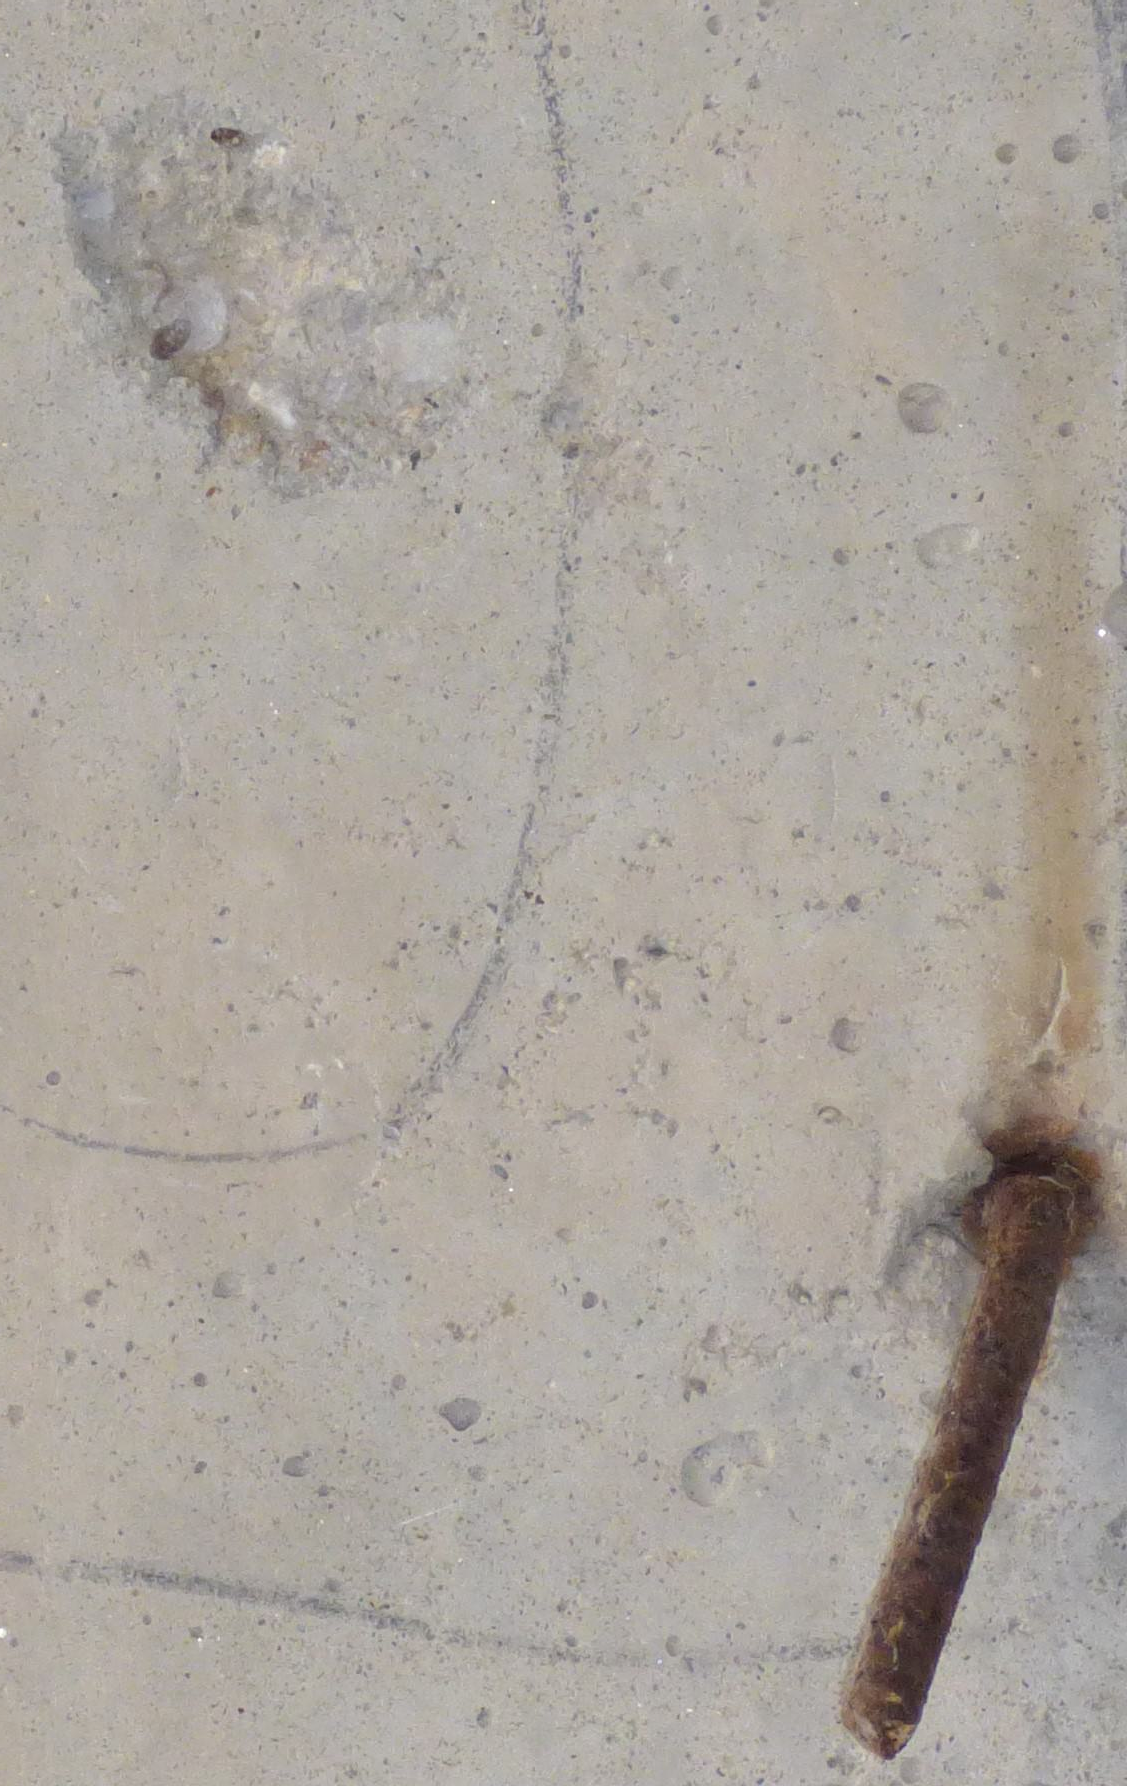Exposed reinforcement: (835, 1173, 1076, 1759)
Spalling: (45, 92, 483, 504)
